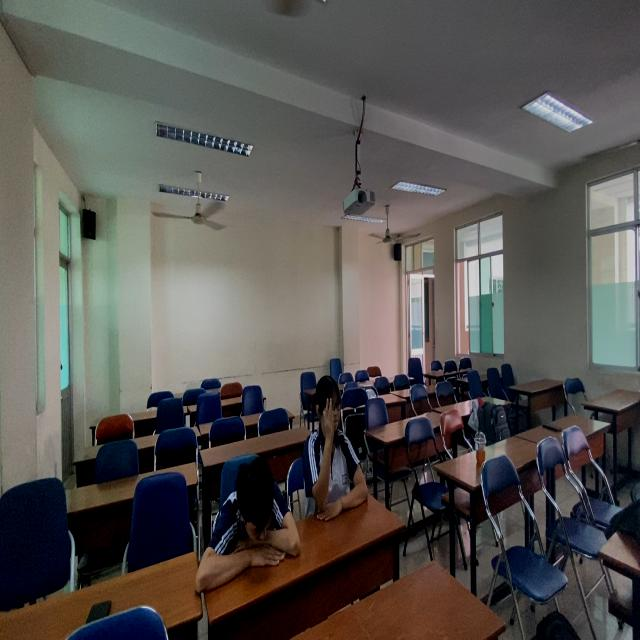raise_hand: (304, 372, 372, 516)
sleep: (191, 448, 303, 582)
